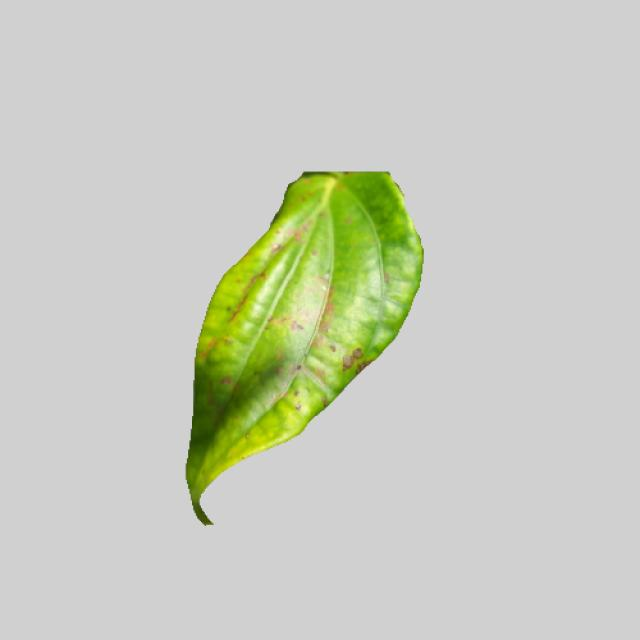yellow-mottle-virus: (175, 170, 430, 532)
